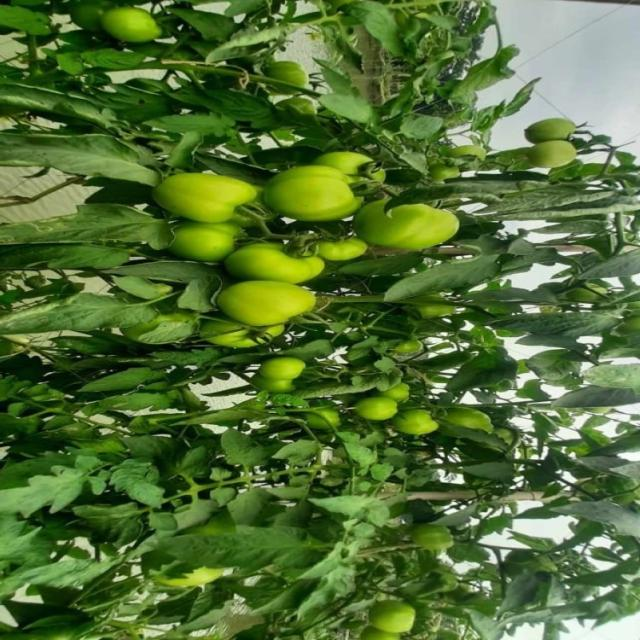tomato: (206, 270, 346, 333), (153, 164, 280, 233), (368, 196, 474, 265), (223, 230, 341, 289), (271, 162, 375, 226), (196, 307, 301, 360), (325, 140, 398, 198), (95, 2, 170, 57), (177, 217, 254, 267), (356, 587, 423, 637), (530, 136, 597, 184), (520, 107, 594, 149), (412, 516, 470, 569), (353, 389, 405, 442), (317, 230, 377, 269), (254, 346, 313, 383), (276, 60, 322, 101), (395, 405, 445, 439), (448, 394, 492, 430), (354, 617, 405, 640), (385, 377, 418, 405)
